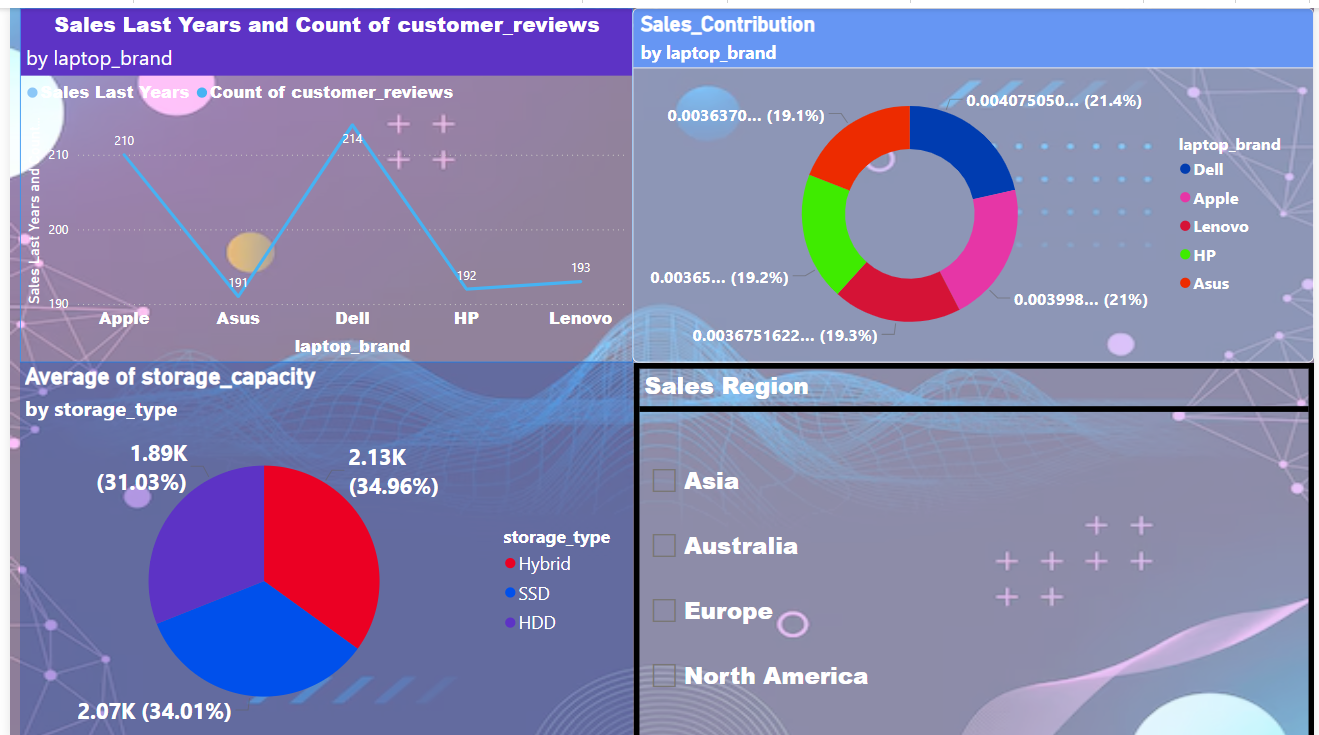

The page's visual inventory and layout, read from the dashboard file:
{"tool":"powerbi","page":{"name":"Page 2","canvas":[1280,720],"ordinal":1},"visuals":[{"type":"lineChart","fields":{"Category":["Laptop_Price.laptop_brand"],"Y":["Laptop_Price.Sales Last Years","CountNonNull(Laptop_Price.customer_reviews)"]},"box":[10,0,601.5,347.8],"z":0},{"type":"pieChart","fields":{"Category":["Laptop_Price.storage_type"],"Y":["Avg(Laptop_Price.storage_capacity)"]},"box":[10,347.8,601.5,372],"z":1000},{"type":"donutChart","fields":{"Y":["Laptop_Price.Sales_Contribution"],"Category":["Laptop_Price.laptop_brand"]},"box":[611.5,0,668.5,347.8],"z":2000},{"type":"slicer","title":"Sales Region","fields":{"Values":["Laptop_Price.sales_region"]},"box":[612,348,668,372],"z":3000}]}

Visuals, with their boxes in screenshot pixels (x1, y1, x2, y2), scaled from the page's 1280x720 canvas onto the 1319x735 screenshot:
lineChart - Laptop_Price.laptop_brand x Laptop_Price.Sales Last Years: box=[10, 0, 630, 355]
pieChart - Laptop_Price.storage_type x Avg(Laptop_Price.storage_capacity): box=[10, 355, 630, 734]
donutChart - Laptop_Price.Sales_Contribution x Laptop_Price.laptop_brand: box=[630, 0, 1318, 355]
"Sales Region" slicer: box=[631, 355, 1318, 734]
